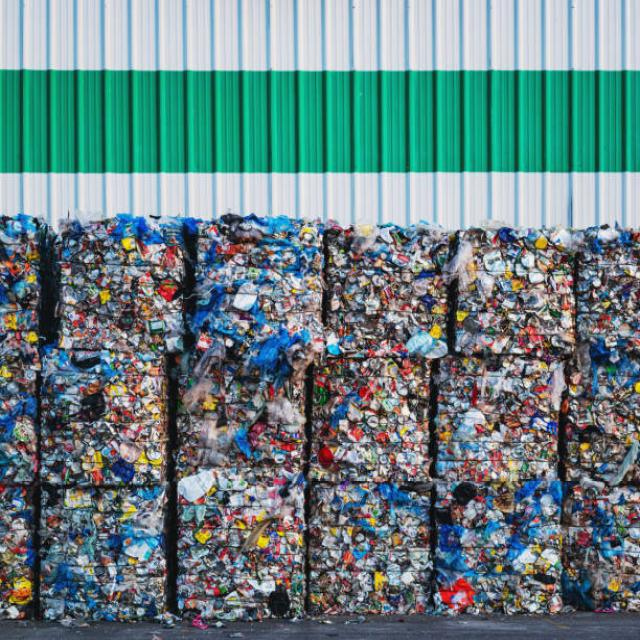plastic: (24, 226, 616, 605)
